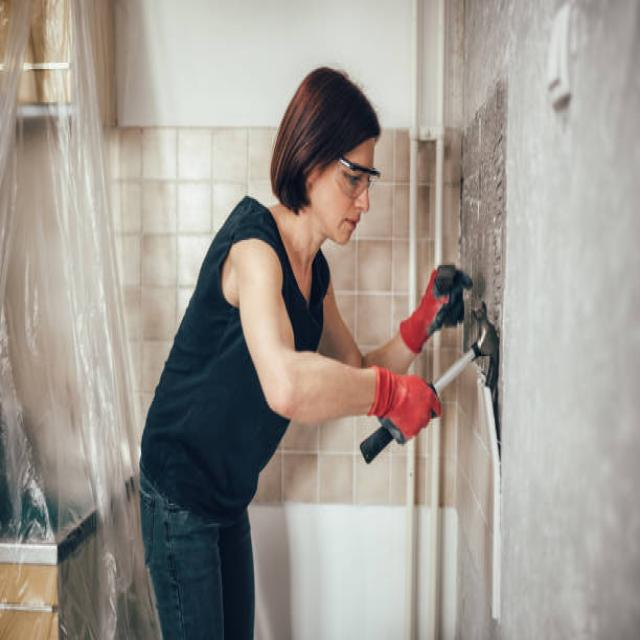gloves: (398, 259, 470, 353), (366, 367, 441, 446)
